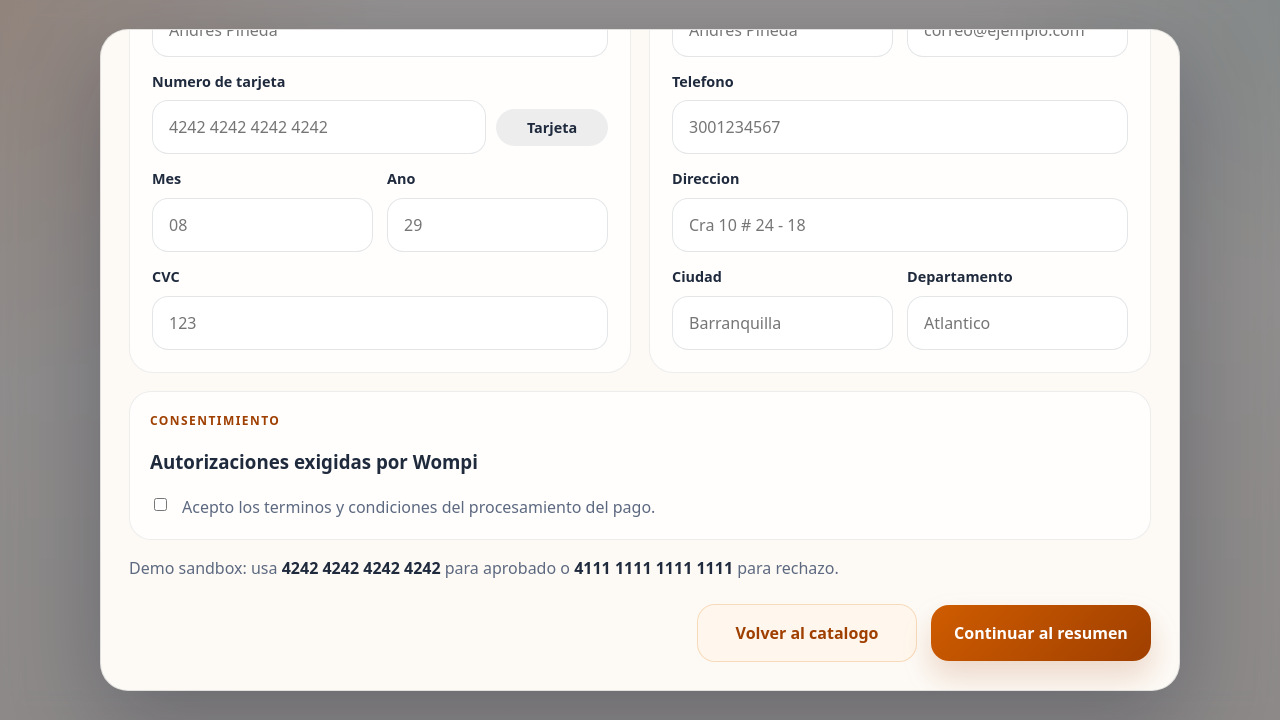
it: CheckoutModal › shows validation errors when the form is incomplete
(page scrolled)
Click the button "Continuar al resumen" at [1041, 633], box [931, 605, 1151, 661]
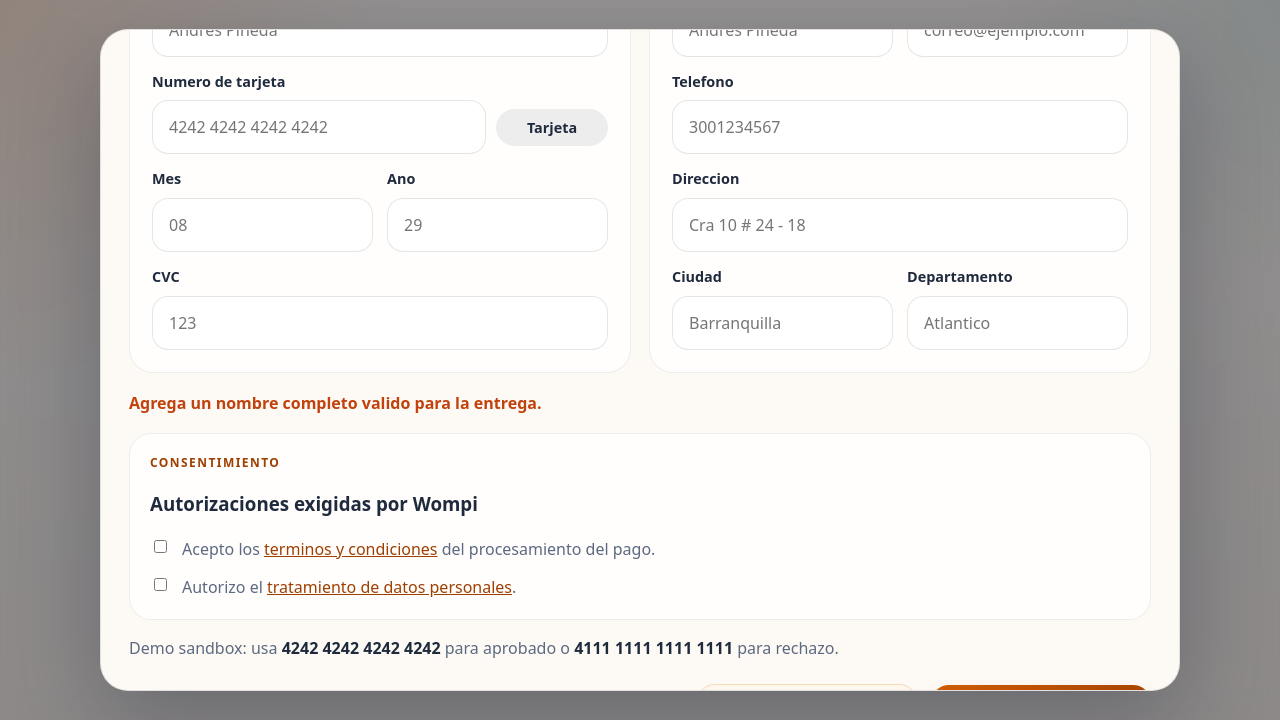
Expected: the text "Agrega un nombre completo valido para la entrega." is shown, [129, 392, 542, 414]
